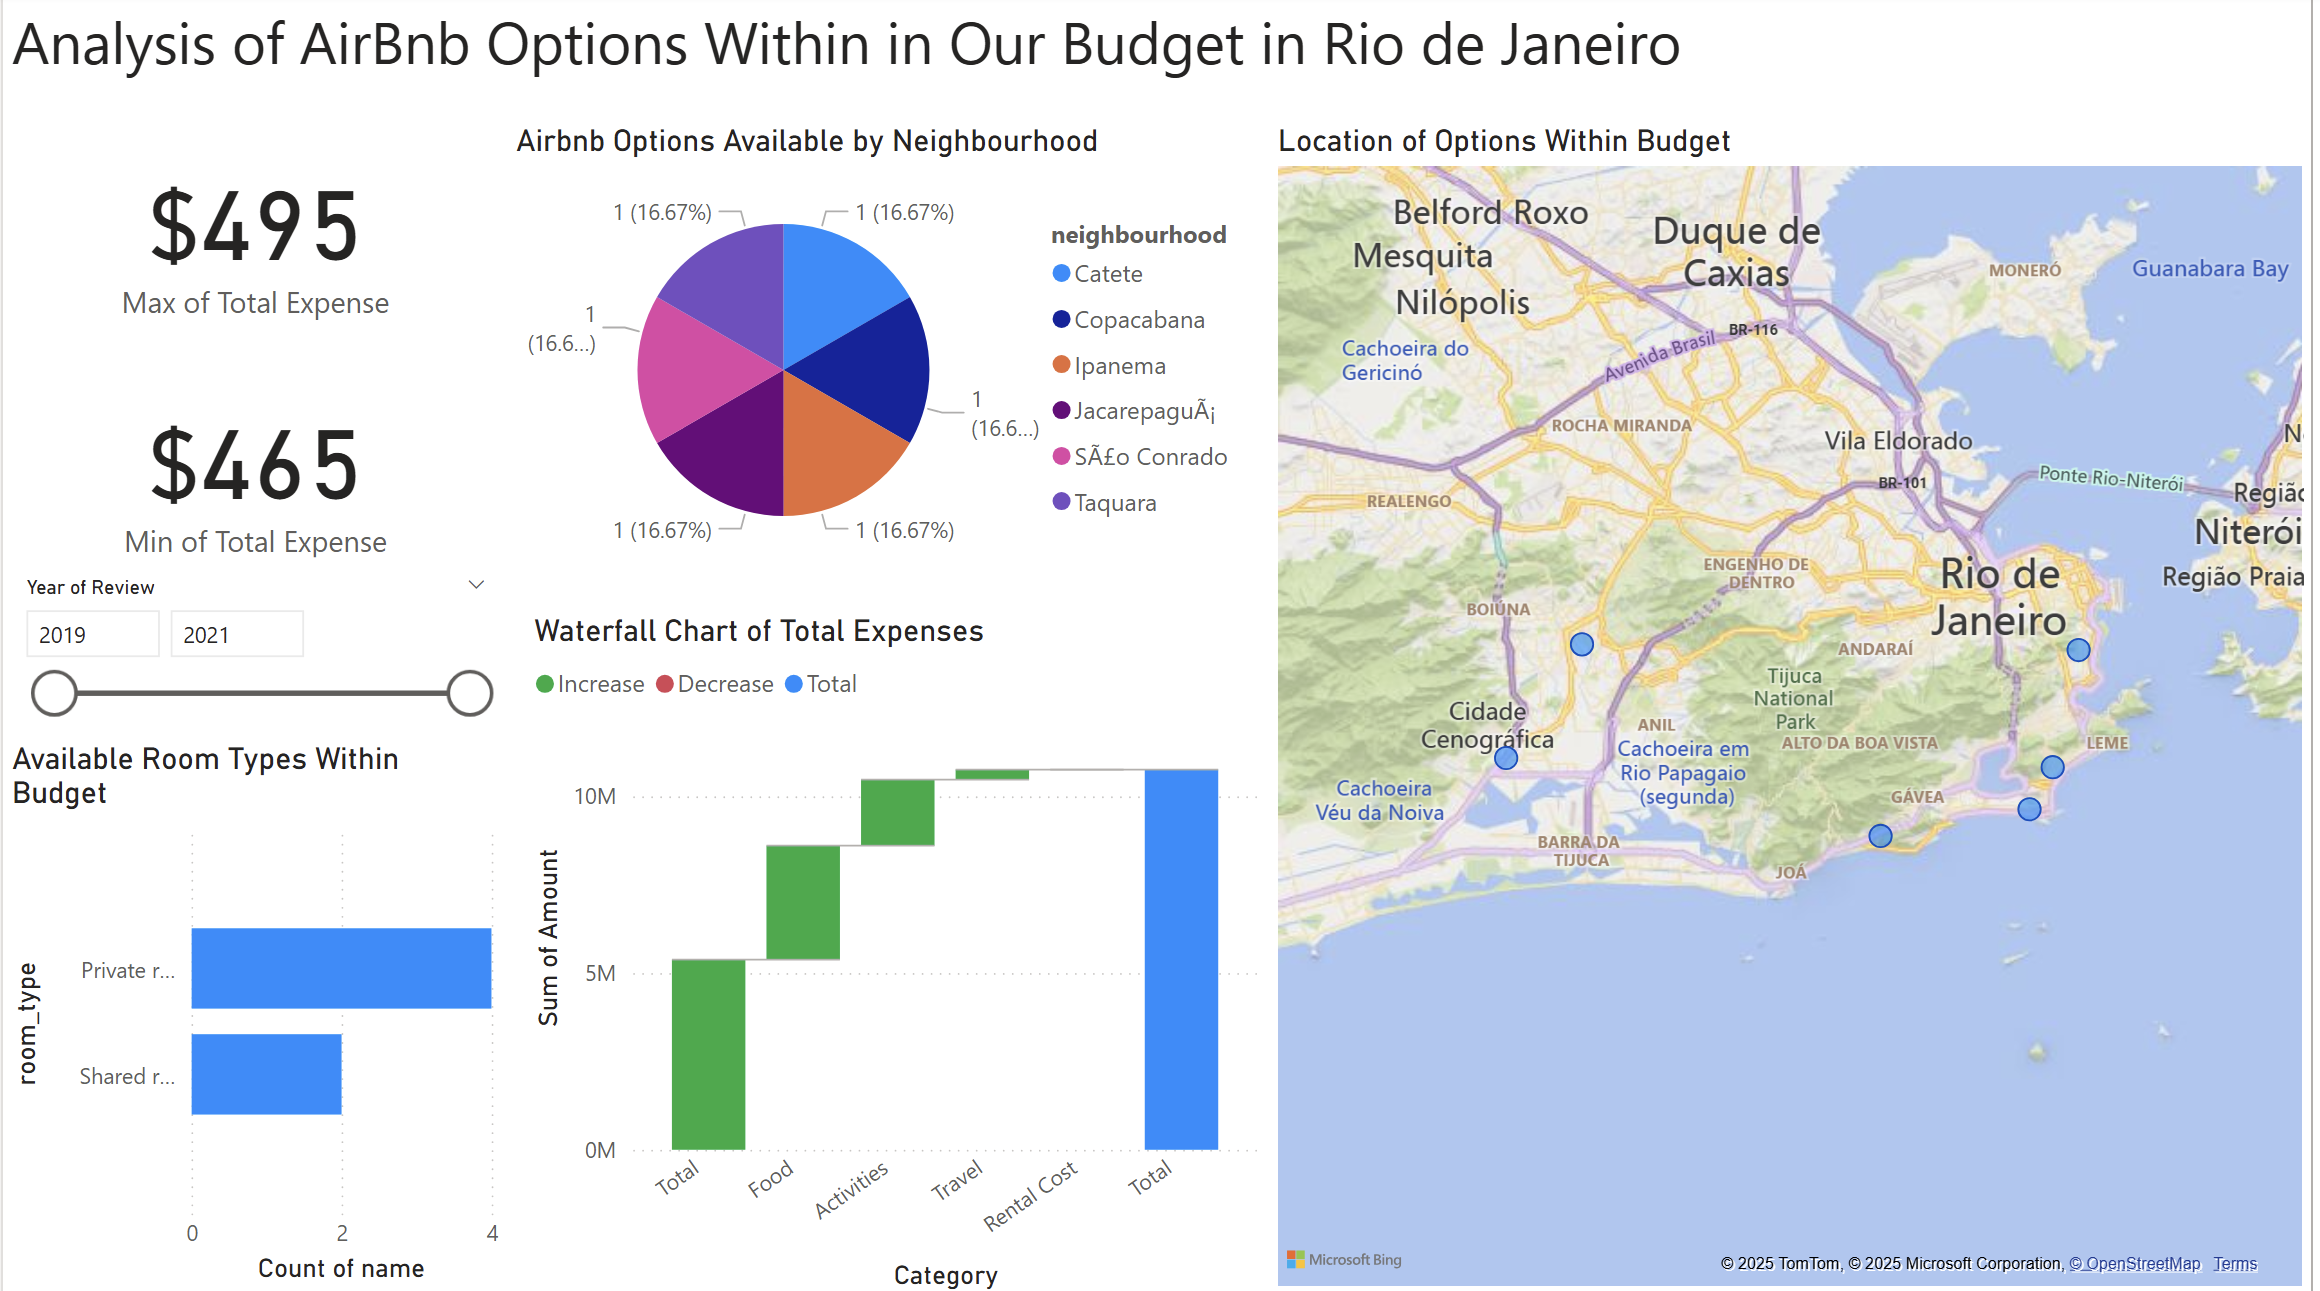

The dashboard page shown, as its layout file describes it:
{"tool":"powerbi","page":{"name":"Page 1","canvas":[1280,720],"ordinal":0},"visuals":[{"type":"card","fields":{"Values":["Trip Expenses.Total Expense"]},"box":[0,71.7,280,121.7],"z":0},{"type":"card","fields":{"Values":["Trip Expenses.Total Expense"]},"box":[0,213.3,280,105],"z":1000},{"type":"map","title":"Location of Options Within Budget","fields":{"Y":["data.latitude"],"X":["data.longitude"]},"box":[701.7,71.7,578.3,650],"z":2000},{"type":"pieChart","title":"Airbnb Options Available by Neighbourhood","fields":{"Category":["data.neighbourhood"],"Y":["data.name"]},"box":[280,71.7,421.7,255],"z":3000},{"type":"barChart","title":"Available Room Types Within Budget","fields":{"Category":["data.room_type"],"Y":["data.name"]},"box":[0,415,280,305],"z":4000},{"type":"slicer","fields":{"Values":["data.Year of Review"]},"box":[0,318.3,280,85],"z":5000},{"type":"waterfallChart","title":"Waterfall Chart of Total Expenses","fields":{"Category":["Expense Breakdown.Category"],"Y":["Expense Breakdown.Amount"]},"box":[290,343.3,411.7,380],"z":6000},{"type":"textbox","box":[0,0,1280,71.7],"z":7000}]}

Visuals, with their boxes in screenshot pixels (x1, y1, x2, y2), scaled from the page's 1280x720 canvas onto the 2320x1291 screenshot:
card - Trip Expenses.Total Expense: left=0, top=129, right=508, bottom=347
card - Trip Expenses.Total Expense: left=0, top=382, right=508, bottom=571
"Location of Options Within Budget" map: left=1272, top=129, right=2319, bottom=1290
"Airbnb Options Available by Neighbourhood" pieChart: left=508, top=129, right=1272, bottom=586
"Available Room Types Within Budget" barChart: left=0, top=744, right=508, bottom=1290
slicer - data.Year of Review: left=0, top=571, right=508, bottom=723
"Waterfall Chart of Total Expenses" waterfallChart: left=526, top=616, right=1272, bottom=1290
textbox: left=0, top=0, right=2319, bottom=129
